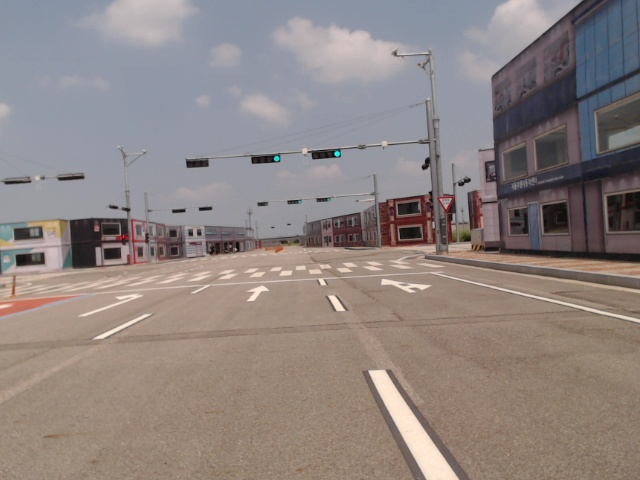straight_green_4: (252, 154, 281, 164), (313, 149, 340, 158)
